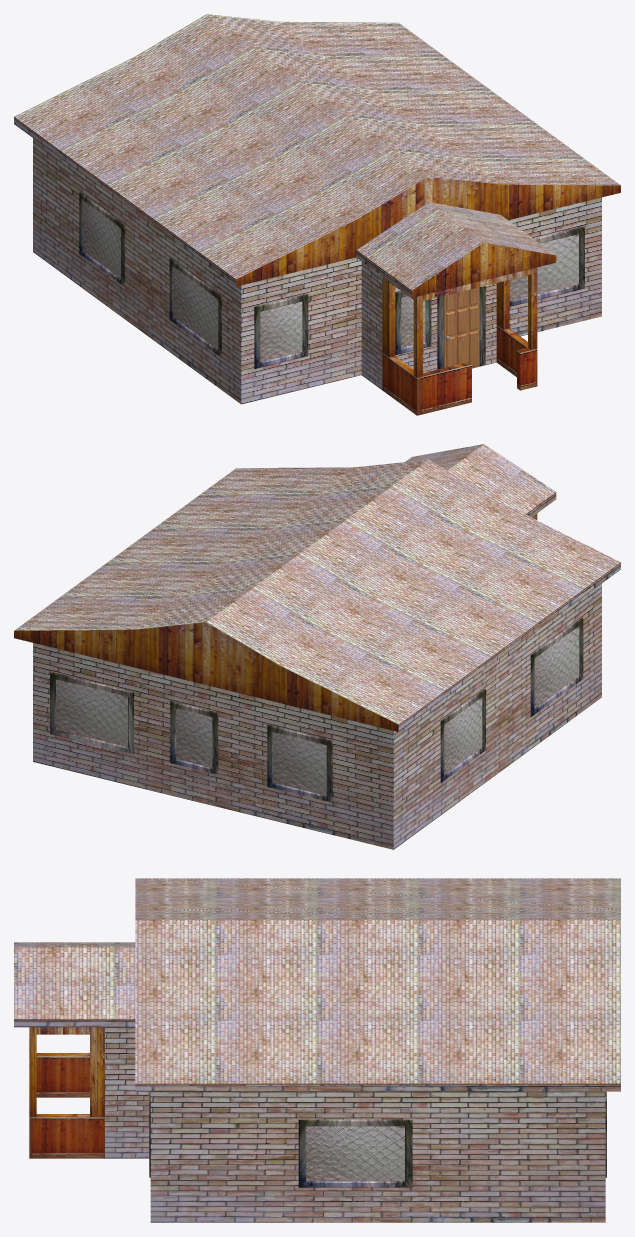
Rendered from House_02.obj.
3 views of the same model, one above another, from view 1: azimuth 30°, elevation 25°; view 2: azimuth 150°, elevation 25°; view 3: azimuth 270°, elevation 25° (orthographic). The views are drawn at different scales.
Visible parts, largest first — view 1: defaultobject; view 2: defaultobject; view 3: defaultobject.
Part boxes in pixels (bbox=[...]): defaultobject: bbox=[14, 14, 620, 415]; defaultobject: bbox=[14, 444, 620, 849]; defaultobject: bbox=[14, 878, 620, 1222].
Bounding box in the file's own units: 384 × 180 × 480.
